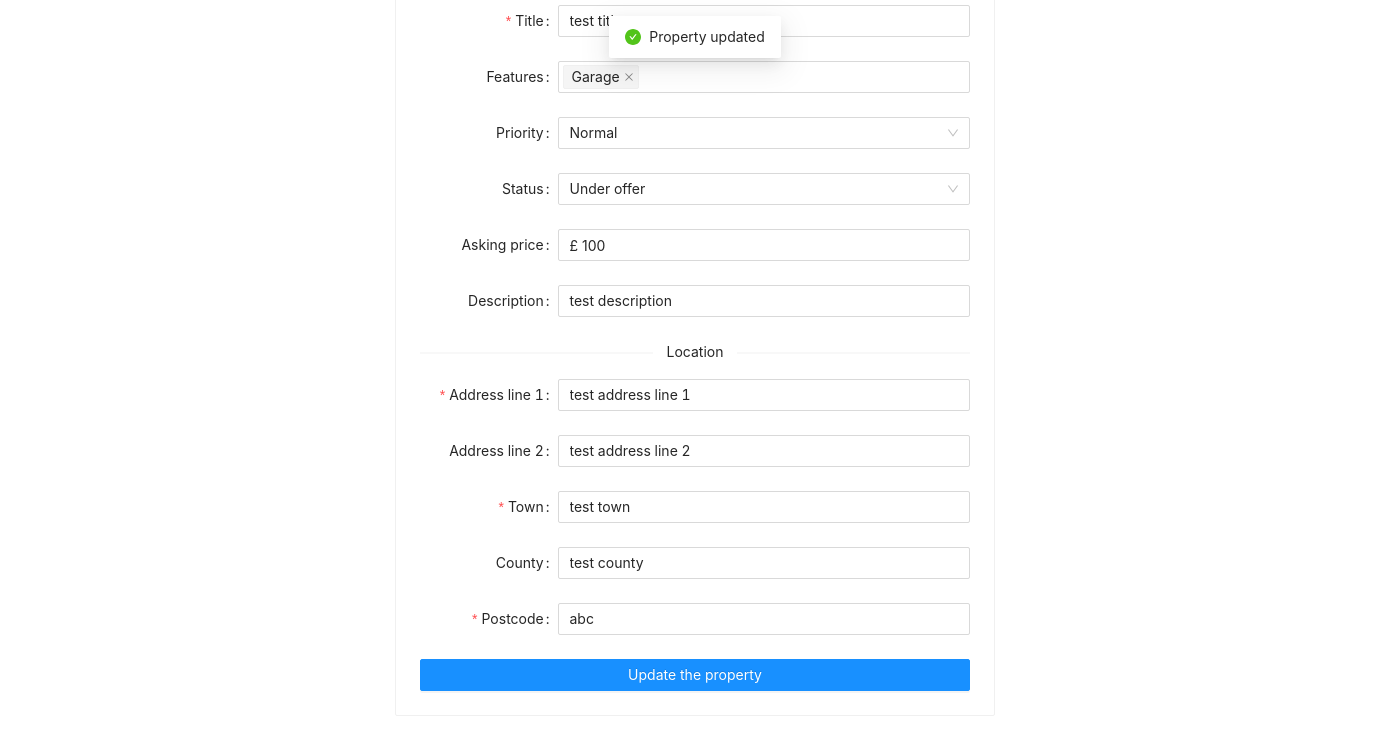
Test case: when failed to update property, display alert
The width and height of the screenshot is (1378, 749).
(page scrolled)
Click the submit button at {"x": 695, "y": 675}, box [420, 659, 970, 691]
(page scrolled)
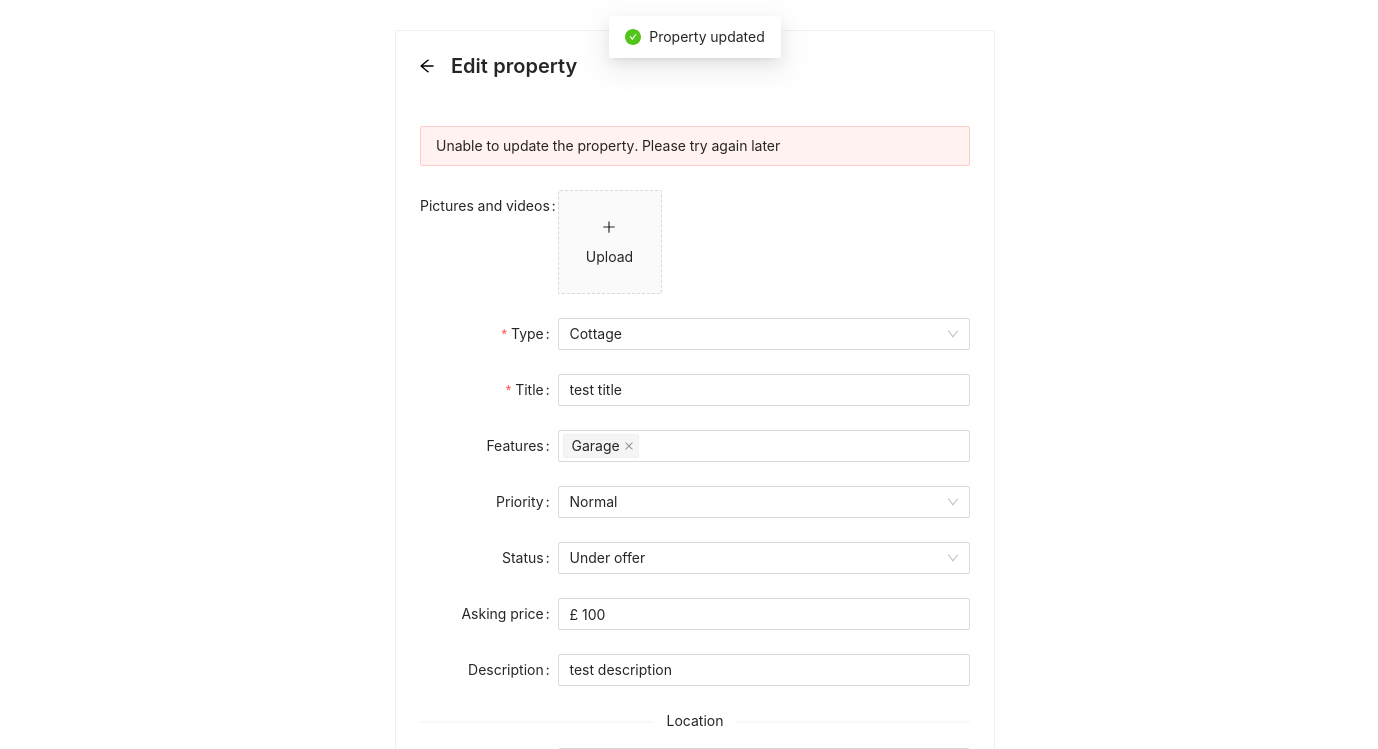
Now the text "Unable to update the property. Please try again later" is shown, box [436, 137, 780, 154]
